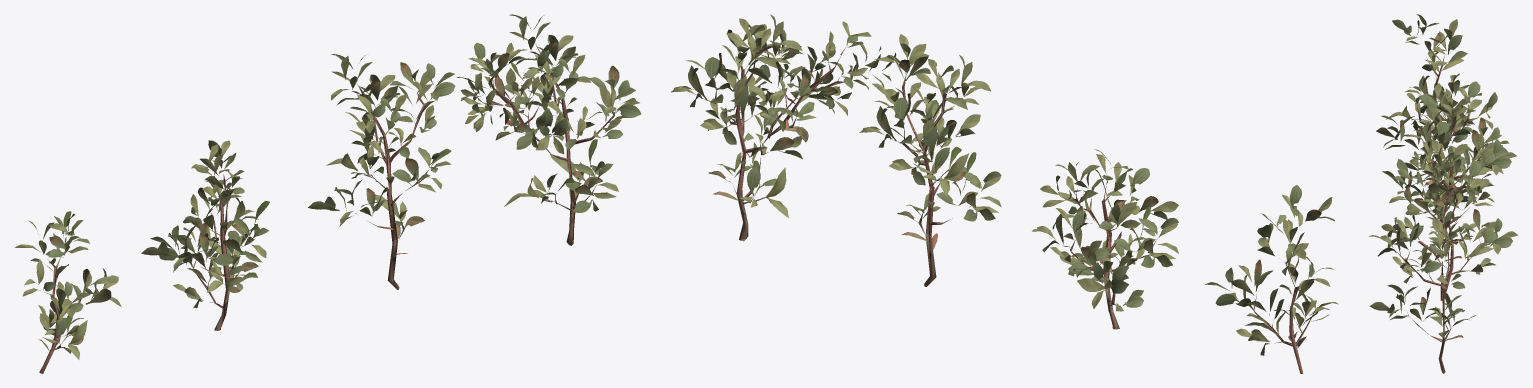
The model's file is shrub_04.glb.
The picture shows the model from 3 angles, left to right: view 1: azimuth 30°, elevation 25°; view 2: azimuth 150°, elevation 25°; view 3: azimuth 270°, elevation 25°; orthographic projection. The views are drawn at different scales.
Parts seen in each view (by area): view 1: shrub_04; view 2: shrub_04; view 3: shrub_04.
Part boxes in pixels (left/top/right/bottom): shrub_04: left=15, top=14, right=641, bottom=373; shrub_04: left=671, top=14, right=1338, bottom=373; shrub_04: left=1369, top=14, right=1518, bottom=373.
Bounding box in the file's own units: 0.5837 × 0.2192 × 0.1461.
Materials: 1 (1 with a texture image).
